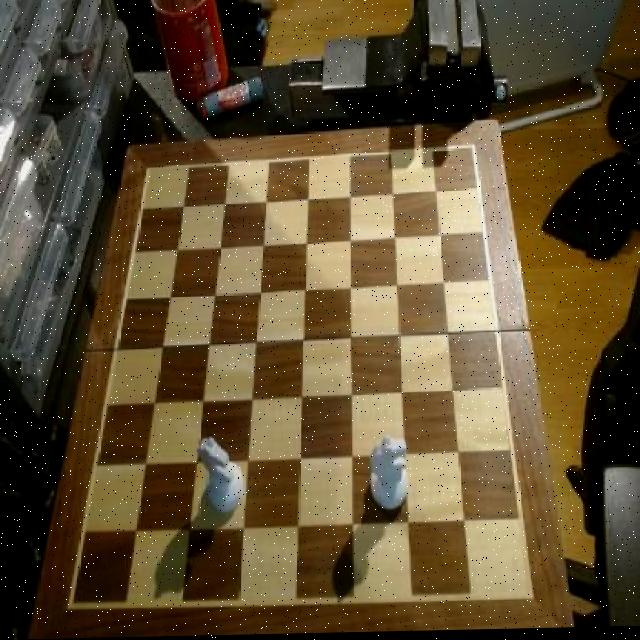white-king: (197, 432, 246, 516), (368, 434, 414, 517)
